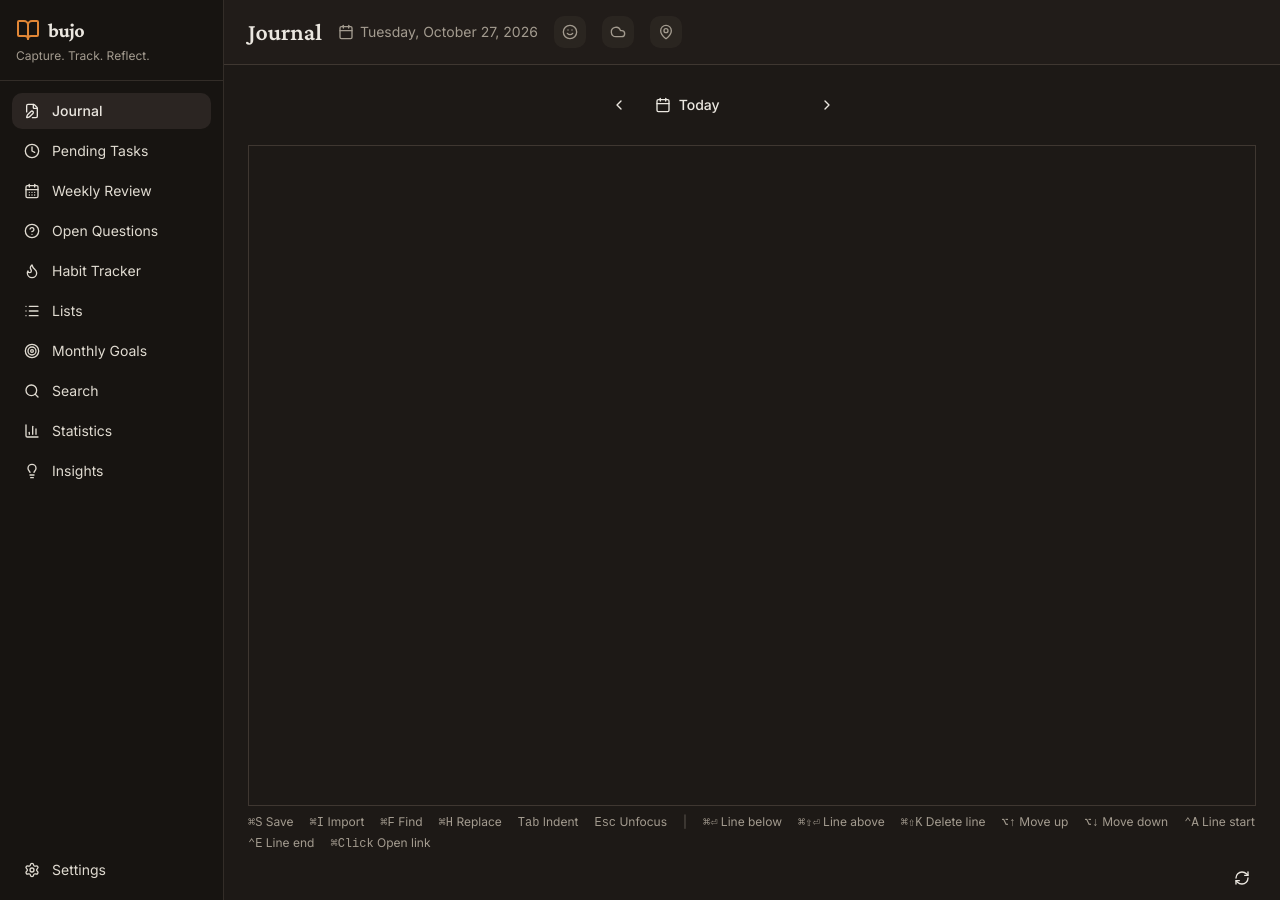
App - Review View (formerly Past Week) › shows "Weekly Review" as header title when review view is selected
# Click on Weekly Review in sidebar
Click the button "Weekly Review": [112, 191] box left=12, top=173, right=211, bottom=209
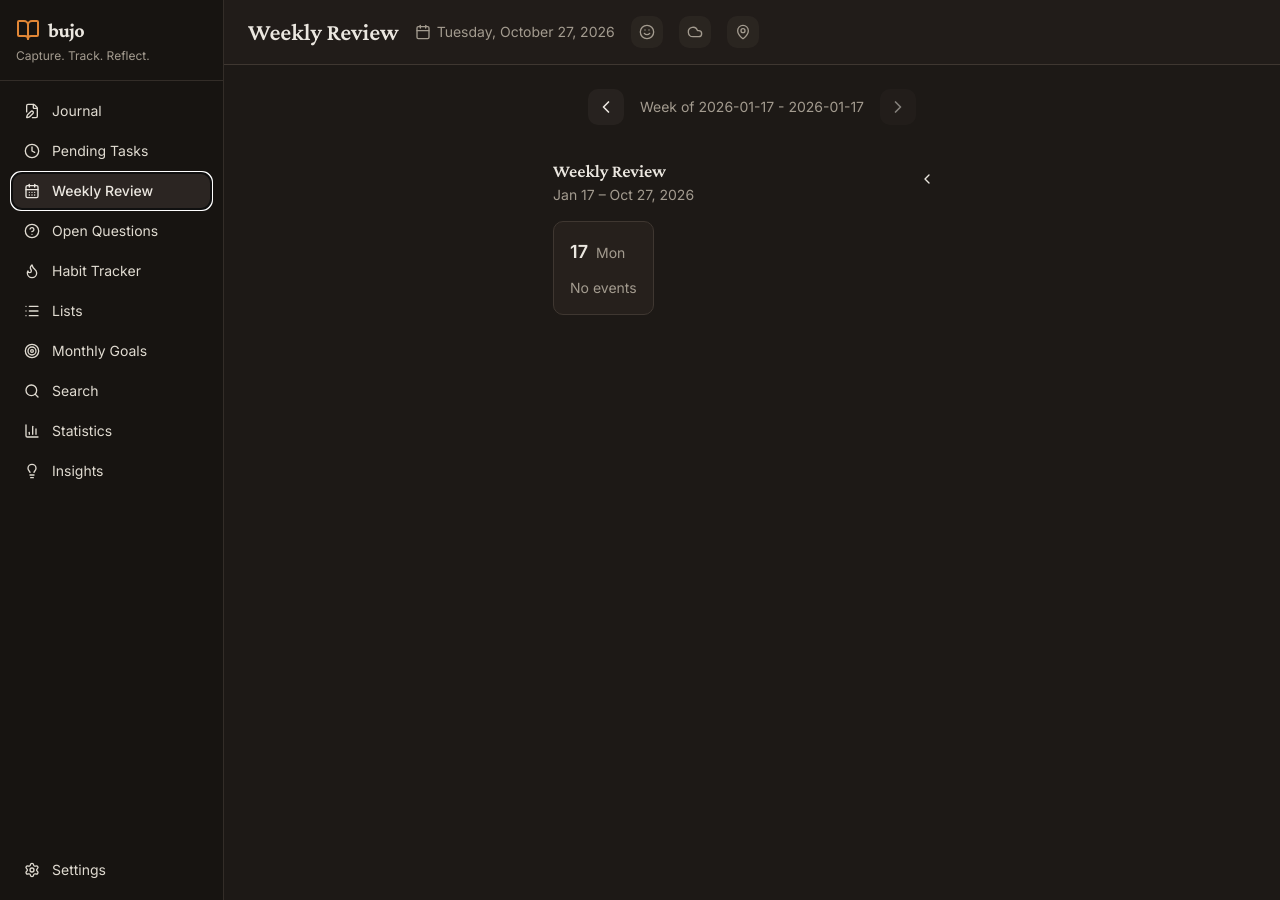
Expected: the heading "Weekly Review" next to "Tuesday, October 27, 2026" is shown, left=248, top=16, right=399, bottom=48
